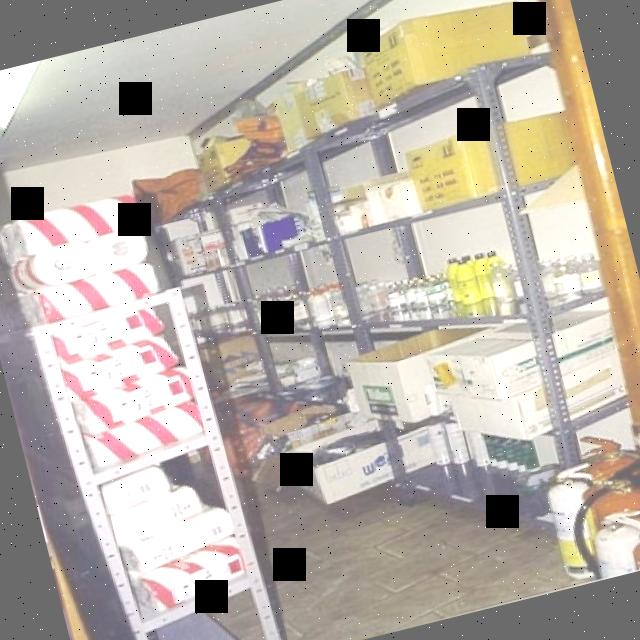box: (354, 0, 536, 94), (404, 110, 578, 208), (451, 352, 630, 440), (287, 417, 439, 505), (431, 328, 542, 405), (350, 343, 439, 427), (289, 66, 370, 135)
